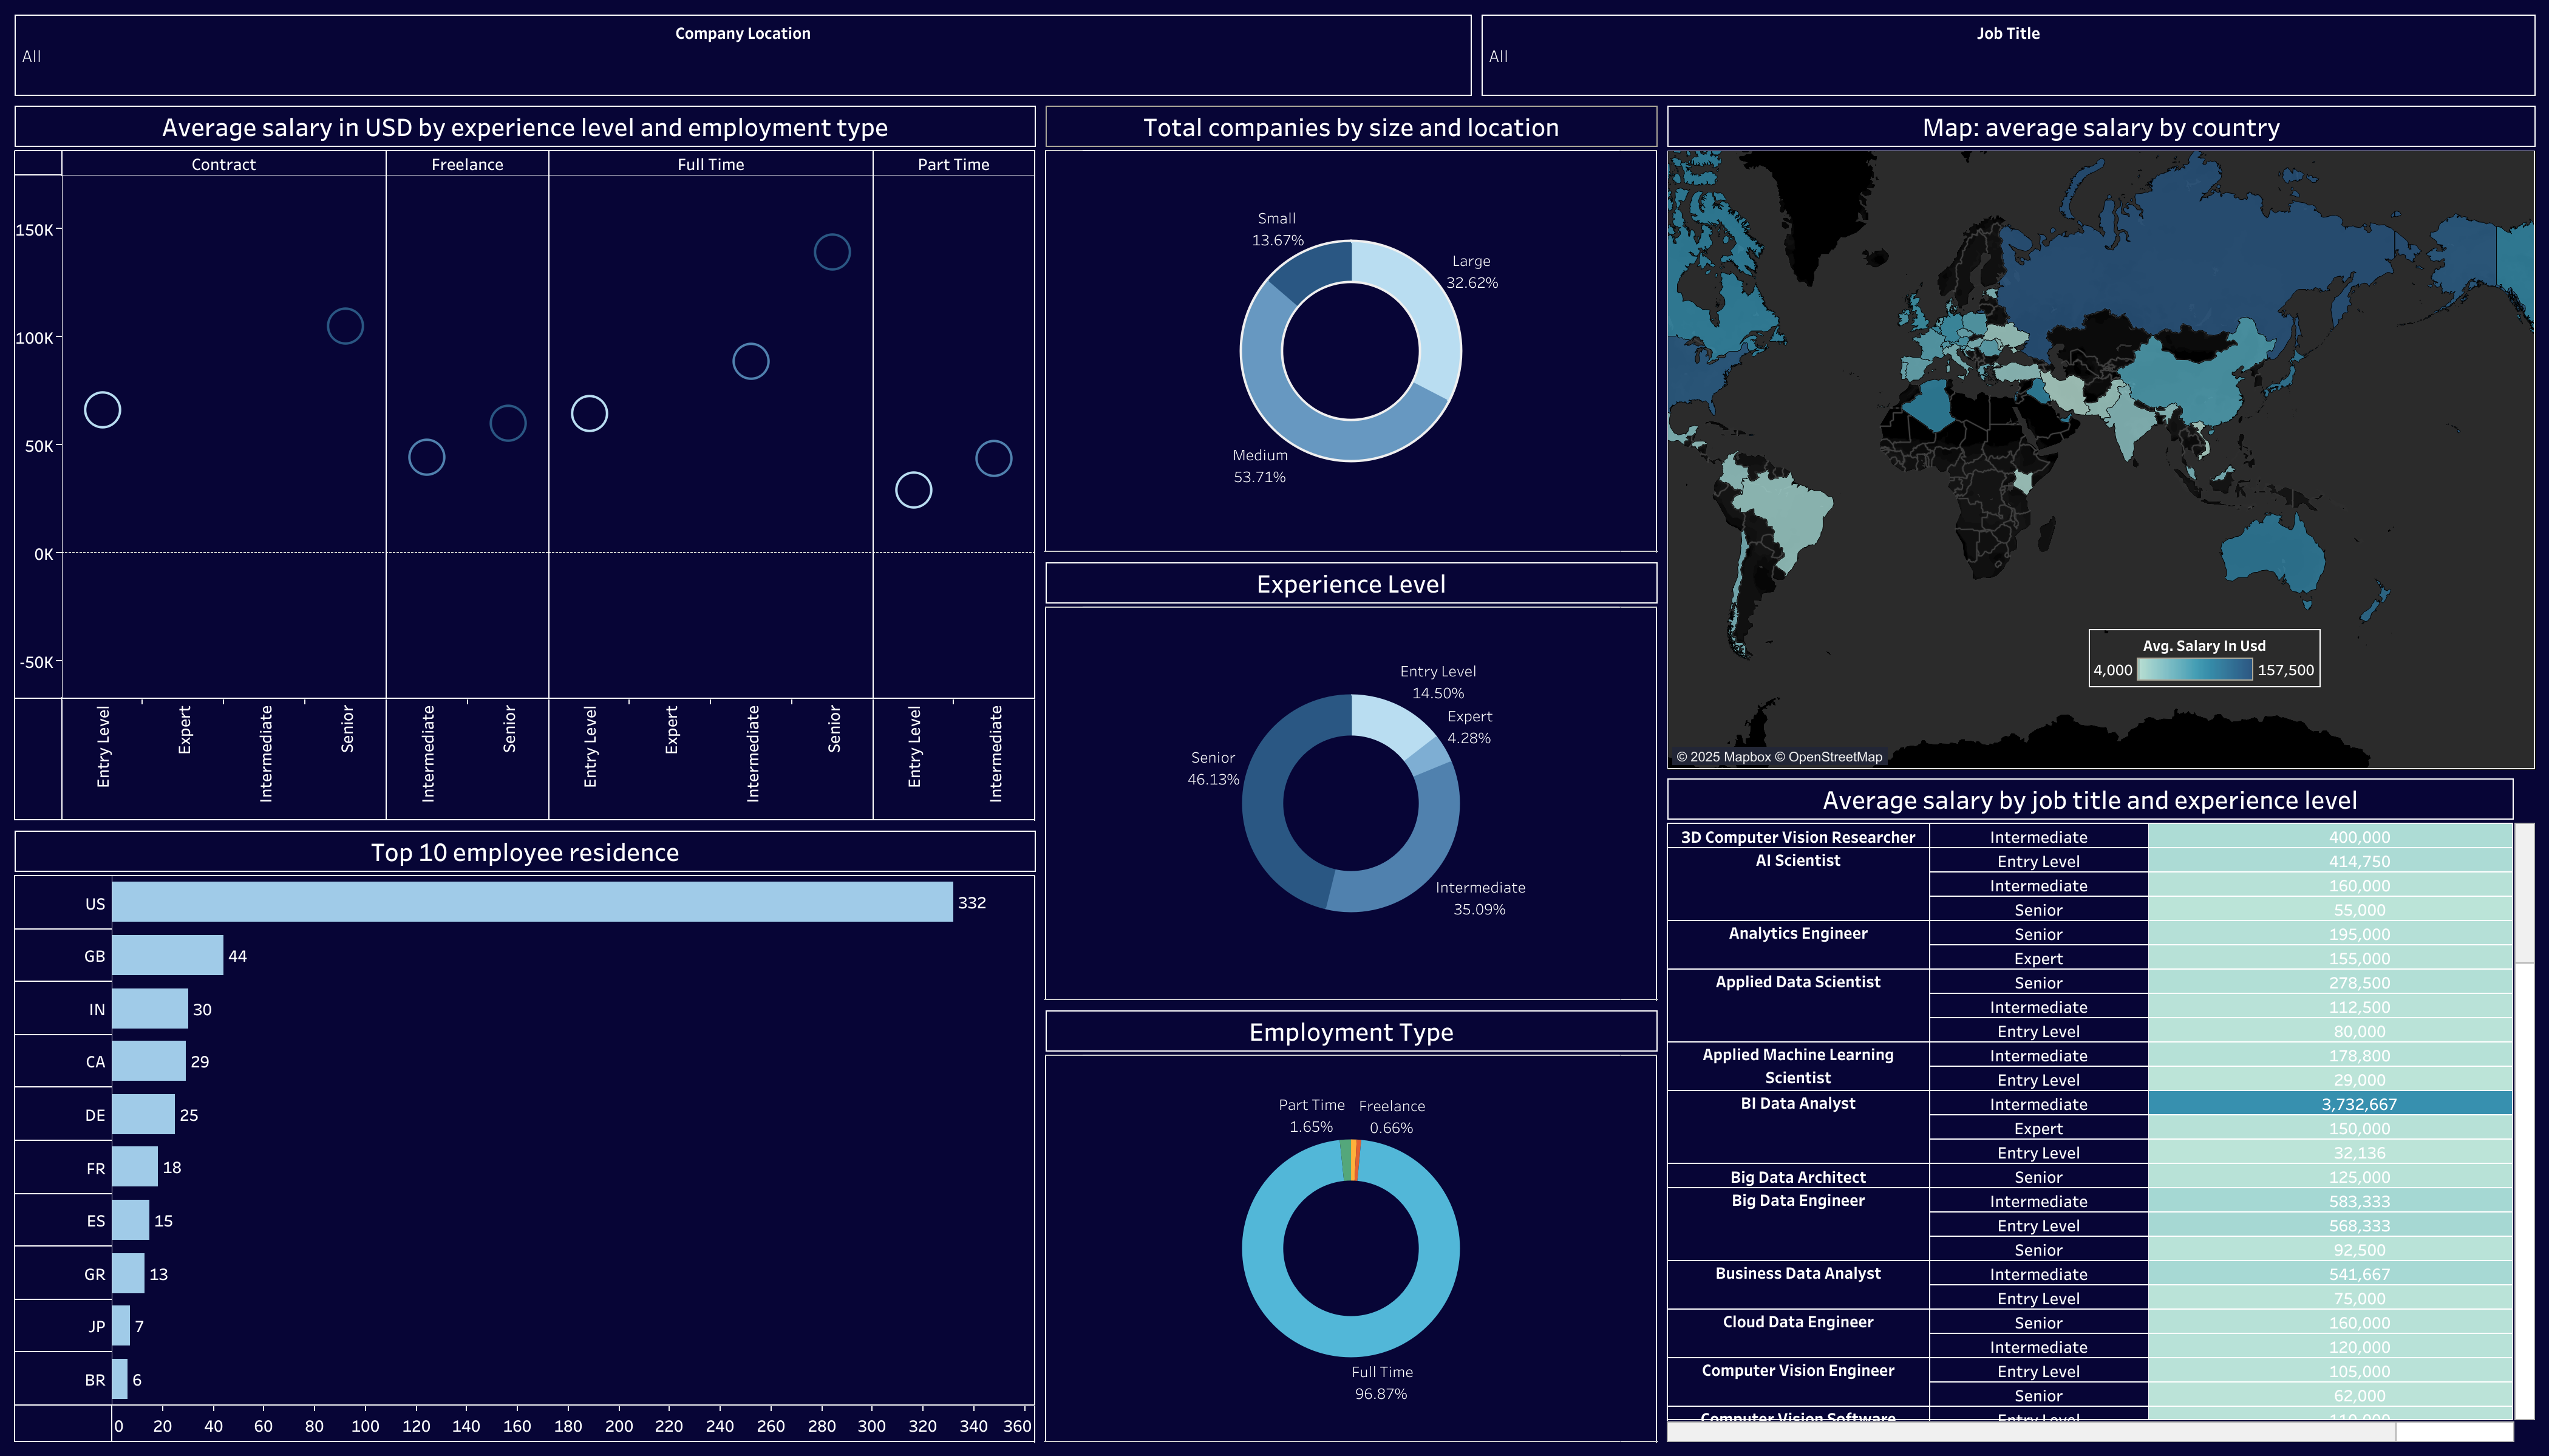

This screenshot's page, from the dashboard's own definition file:
{"tool":"tableau","page":{"name":"Dashboard 1","canvas":[2100,1200],"ordinal":0},"visuals":[{"type":"filter","title":"Total companies by size and location","param":"[federated.1nwxcy70c687fl18yp22z0jokko3].[none:company_location:nk]","box":[8,8,1208,75]},{"type":"filter","title":"Map: average salary by country","param":"[federated.1nwxcy70c687fl18yp22z0jokko3].[none:job_title:nk]","box":[1216,8,876,75]},{"type":"worksheet","title":"Average salary in USD by experience level and employment type","mark":"Shape","rows":["salary_in_usd"],"cols":["employment_type","experience_level"],"box":[8,83,849,597]},{"type":"worksheet","title":"Total companies by size and location","mark":"Pie","rows":["Calculation_0645710733000705","Calculation_0645710733000705"],"box":[857,83,512,376]},{"type":"worksheet","title":"Map: average salary by country","mark":"Automatic","box":[1369,83,723,554.5]},{"type":"worksheet","title":"Experience Level","mark":"Pie","rows":["Calculation_0645710733000705","Calculation_0645710733000705"],"box":[857,459,512,369]},{"type":"legend","title":"Map: average salary by country","param":"[federated.1nwxcy70c687fl18yp22z0jokko3].[avg:salary_in_usd:qk]","box":[1720,518,191,48]},{"type":"worksheet","title":"Average salary by job title and experience level","mark":"Square","rows":["job_title","experience_level"],"box":[1369,637.5,723,554.5]},{"type":"worksheet","title":"Top 10 employee residence","mark":"Automatic","rows":["employee_residence"],"cols":["employee_residence"],"box":[8,680,849,512]},{"type":"worksheet","title":"Employment Type","mark":"Pie","rows":["Calculation_0645710733000705","Calculation_0645710733000705"],"box":[857,828,512,364]}]}

Visuals, with their boxes in screenshot pixels (x1, y1, x2, y2), scaled from the page's 2100x1200 canvas onto the 2549x1456 screenshot:
"Total companies by size and location" filter: BBox(10, 10, 1476, 101)
"Map: average salary by country" filter: BBox(1476, 10, 2539, 101)
"Average salary in USD by experience level and employment type" worksheet (Shape marks): BBox(10, 101, 1040, 825)
"Total companies by size and location" worksheet (Pie marks): BBox(1040, 101, 1662, 557)
"Map: average salary by country" worksheet: BBox(1662, 101, 2539, 774)
"Experience Level" worksheet (Pie marks): BBox(1040, 557, 1662, 1005)
"Map: average salary by country" legend: BBox(2088, 628, 2319, 687)
"Average salary by job title and experience level" worksheet (Square marks): BBox(1662, 774, 2539, 1446)
"Top 10 employee residence" worksheet: BBox(10, 825, 1040, 1446)
"Employment Type" worksheet (Pie marks): BBox(1040, 1005, 1662, 1446)
